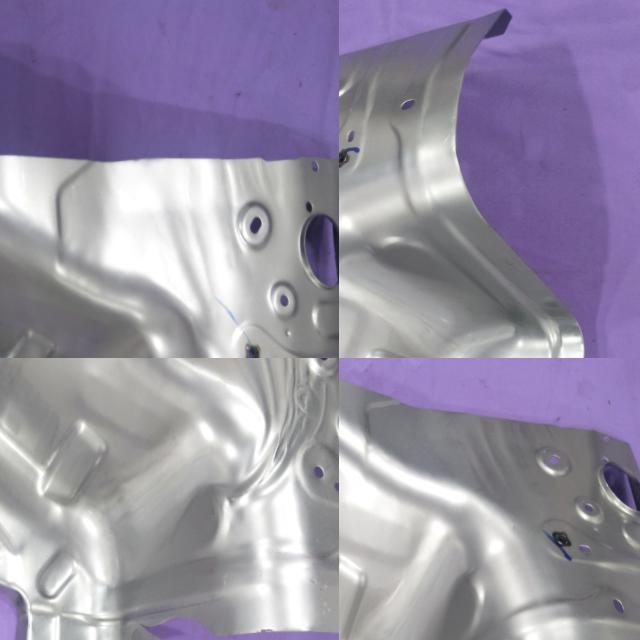Defect: (114, 594, 222, 640)
Healthy: (339, 1, 598, 358), (339, 358, 640, 640), (0, 138, 339, 358)
